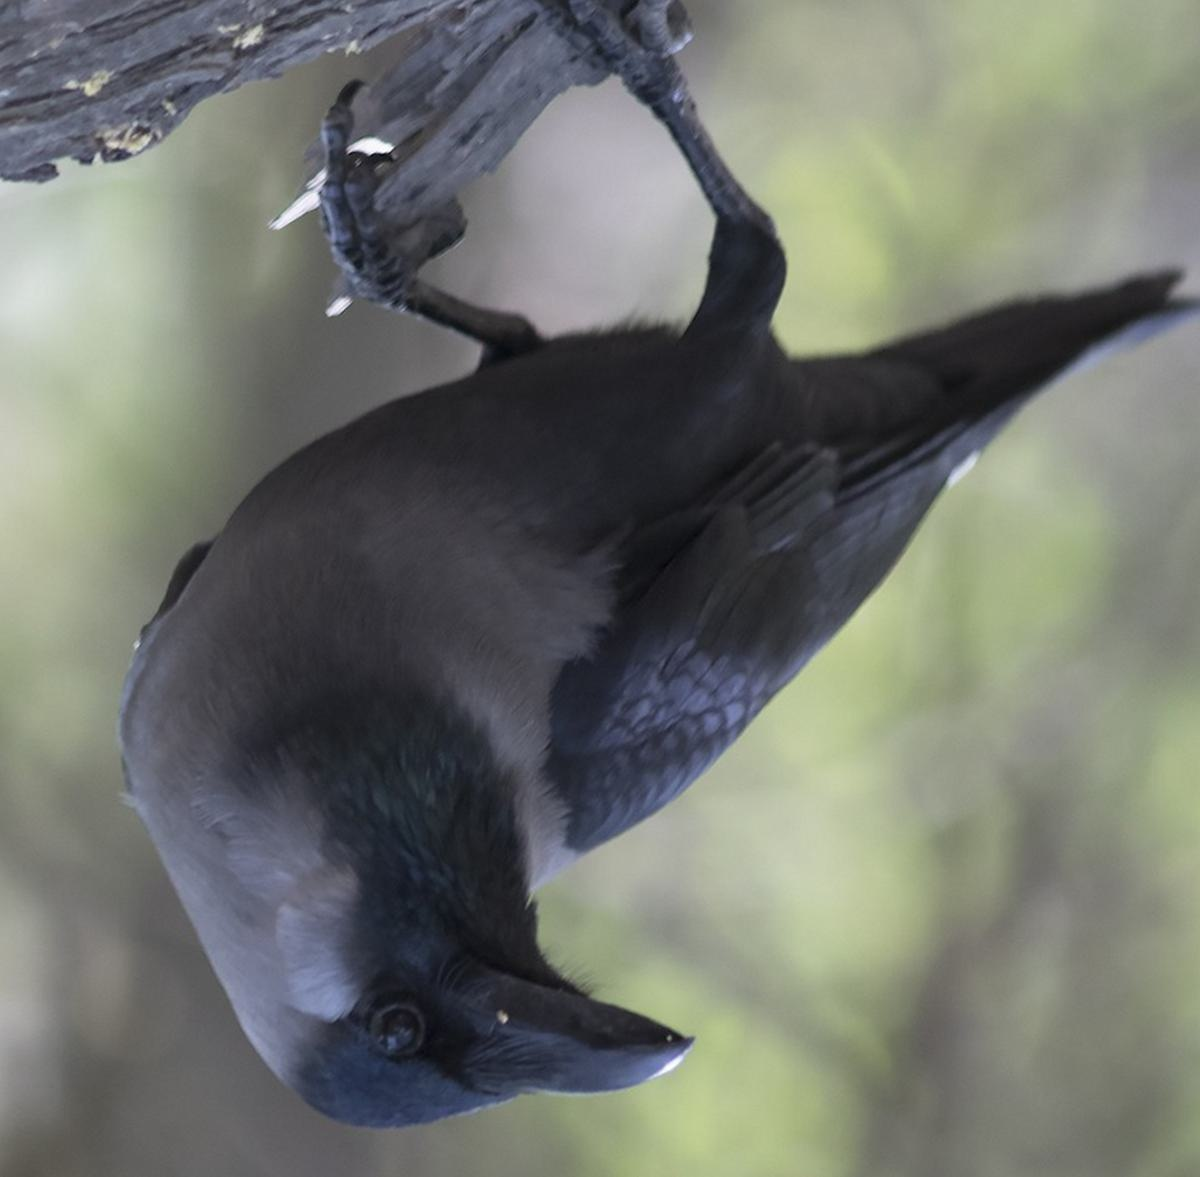crow: (108, 34, 1185, 1135)
